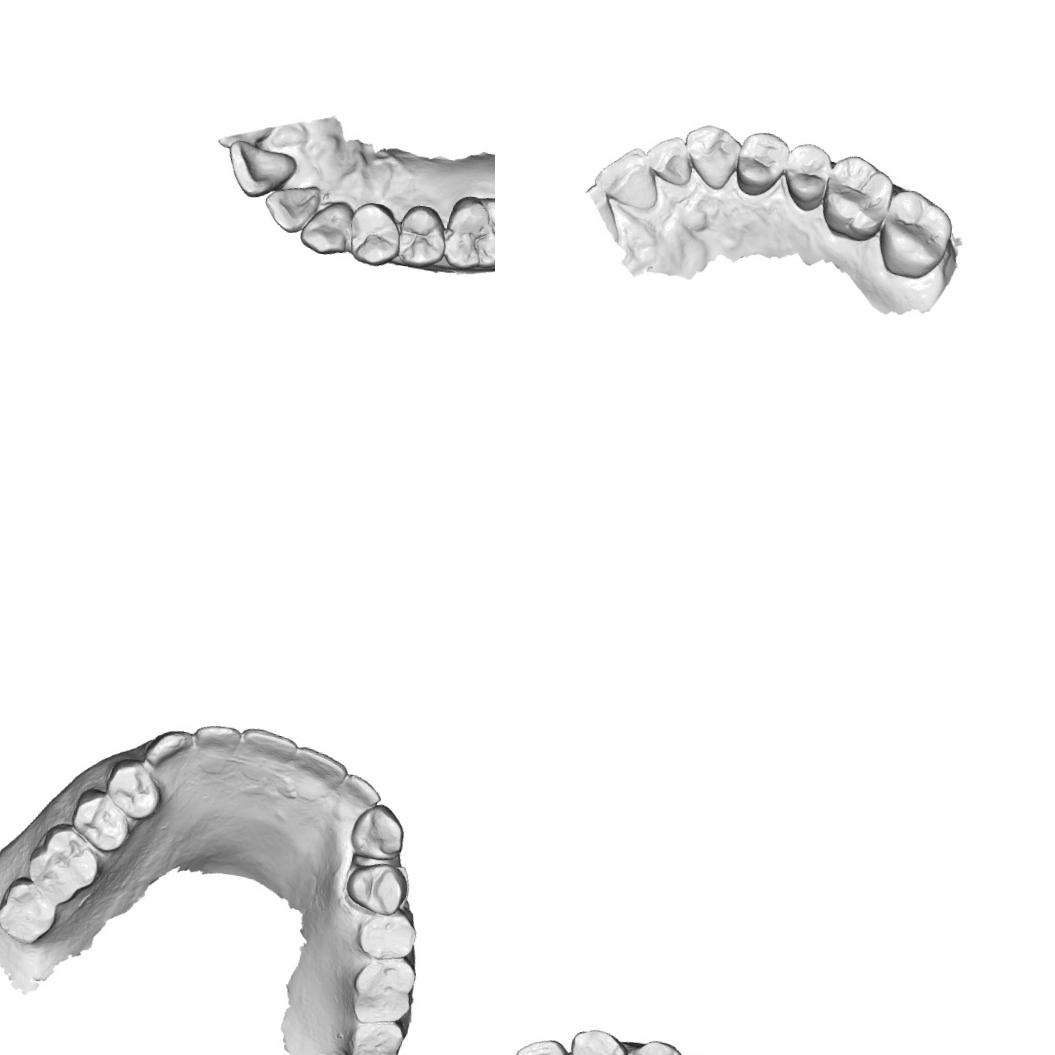canine: (676, 120, 745, 194), (346, 800, 410, 865), (296, 194, 356, 260), (142, 724, 198, 774), (563, 1024, 632, 1055)
incisor: (219, 137, 302, 205), (590, 140, 665, 213), (258, 176, 323, 238), (642, 130, 698, 188), (291, 744, 351, 787), (238, 724, 299, 762), (192, 716, 244, 756), (342, 771, 384, 808), (509, 1032, 576, 1055)
molar: (872, 184, 960, 284), (816, 150, 899, 246), (24, 818, 106, 900), (347, 952, 421, 1030), (438, 190, 495, 279), (0, 872, 61, 949), (342, 1014, 407, 1055)
premolar: (67, 785, 136, 855), (344, 197, 406, 272), (777, 136, 836, 214), (340, 857, 414, 919), (101, 754, 166, 822), (730, 128, 790, 201), (392, 200, 450, 274), (353, 908, 420, 965), (617, 1033, 688, 1055)
